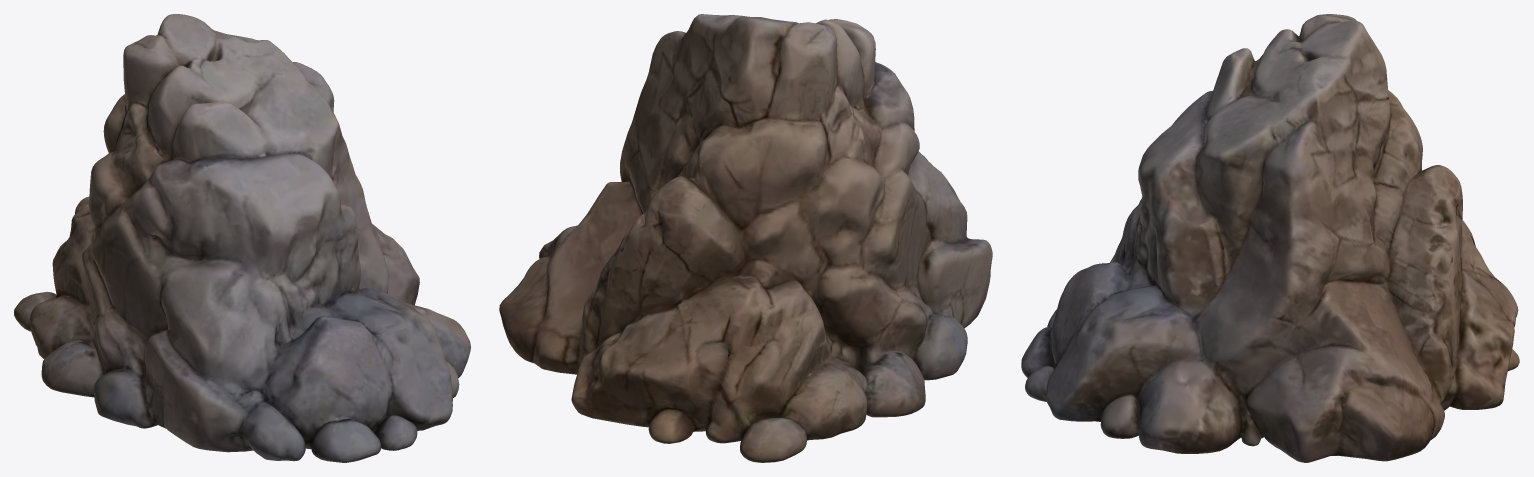
Rendered from rock_outcrop.glb.
3 renders of one model, left to right at view 1: azimuth 30°, elevation 25°; view 2: azimuth 150°, elevation 25°; view 3: azimuth 270°, elevation 25°, orthographic. The views are drawn at different scales.
Visible parts, largest first — view 1: tripo_node_6b2ac8c5-25ce-4de6-bdb5-8df690d56c24; view 2: tripo_node_6b2ac8c5-25ce-4de6-bdb5-8df690d56c24; view 3: tripo_node_6b2ac8c5-25ce-4de6-bdb5-8df690d56c24.
Part boxes in pixels (x1,y1,x2,y2): tripo_node_6b2ac8c5-25ce-4de6-bdb5-8df690d56c24: (14,14,470,462); tripo_node_6b2ac8c5-25ce-4de6-bdb5-8df690d56c24: (499,14,992,462); tripo_node_6b2ac8c5-25ce-4de6-bdb5-8df690d56c24: (1021,14,1519,462).
Size of the model in its own units: 0.7773 by 0.7622 by 0.9305.
Materials: 1 (1 with a texture image).
